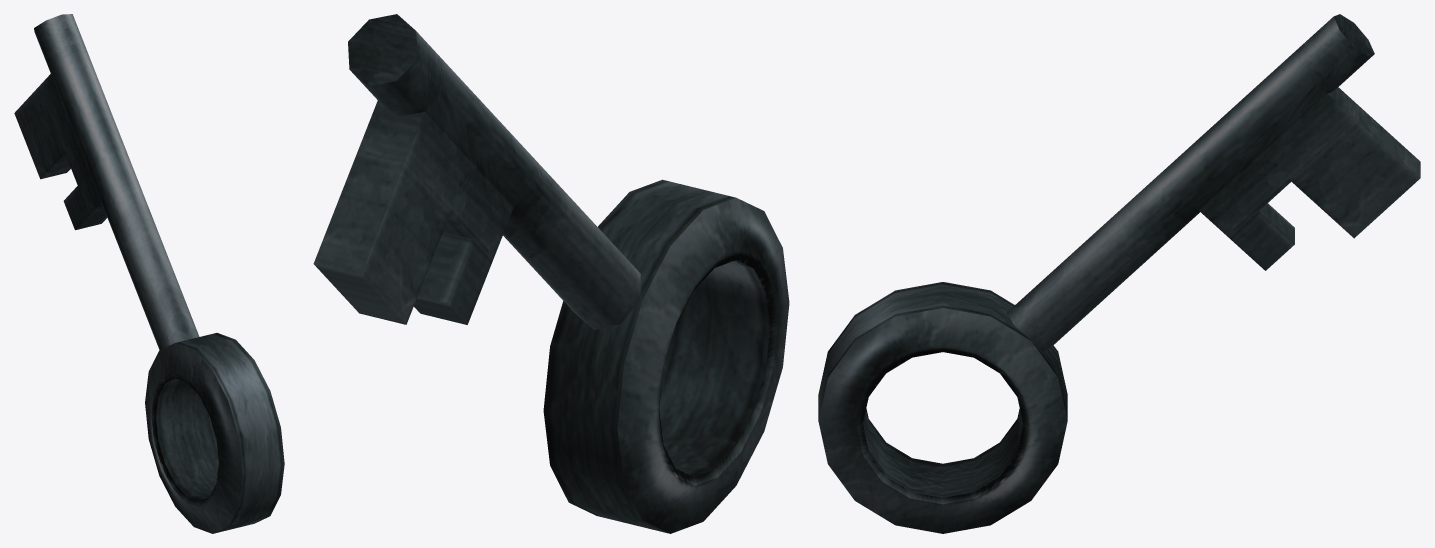
The model's file is M19_house_key.fbx.
The picture shows the model from 3 angles, left to right: view 1: azimuth 30°, elevation 25°; view 2: azimuth 150°, elevation 25°; view 3: azimuth 270°, elevation 25°; orthographic projection. The views are drawn at different scales.
Parts seen in each view (by area): view 1: key; view 2: key; view 3: key.
Boxes of the visible parts, box(x1,y1,x2,y2) form: key: box(14, 14, 284, 533); key: box(313, 14, 789, 533); key: box(818, 14, 1420, 533).
Bounding box in the file's own units: 3.58 × 23.1 × 24.99.
